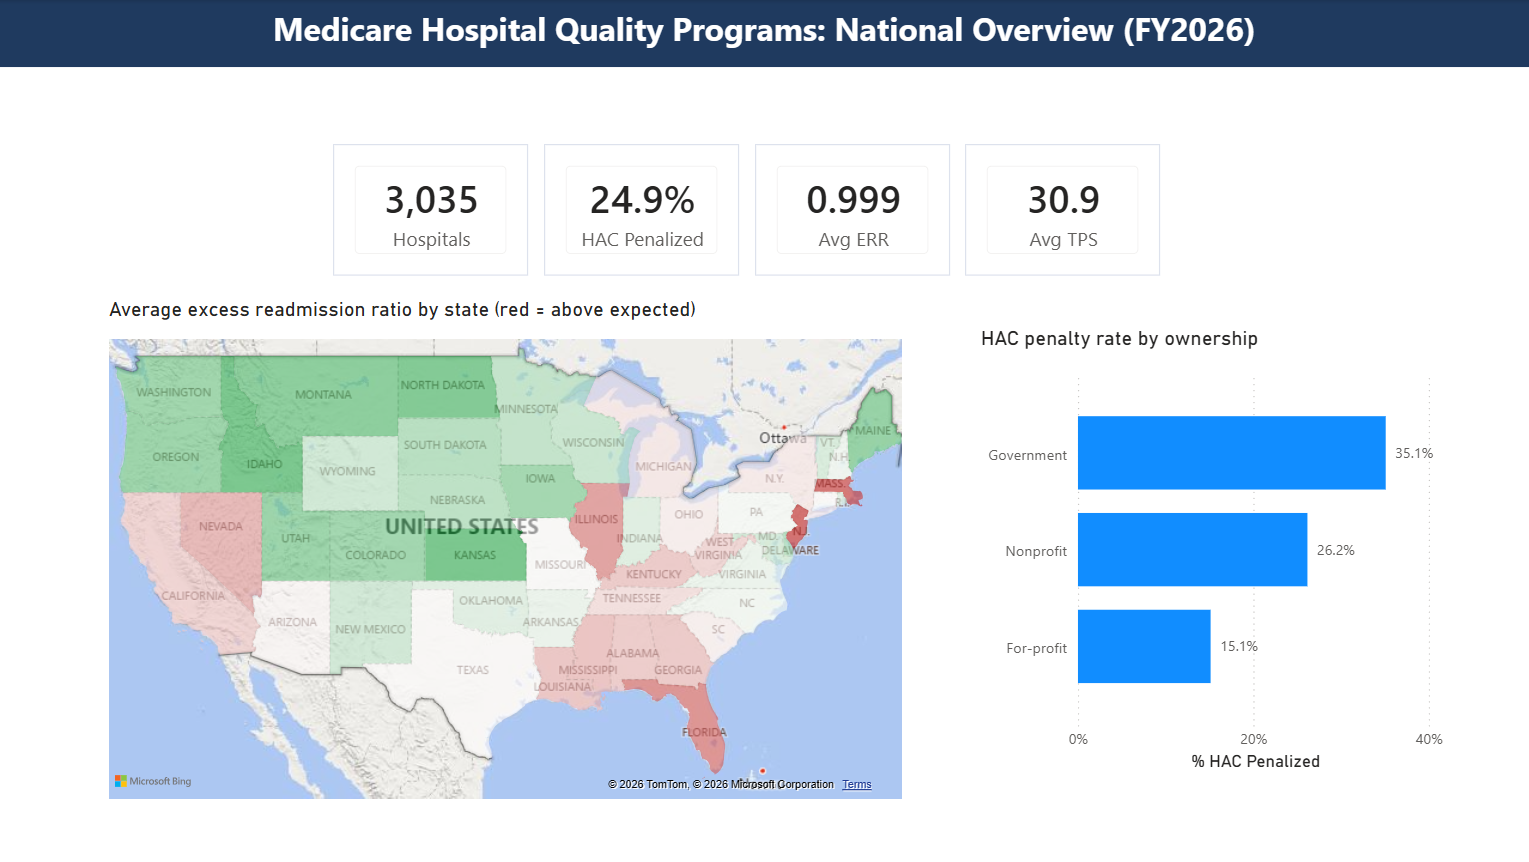

The dashboard page shown, as its layout file describes it:
{"tool":"powerbi","page":{"name":"National overview","canvas":[1280,720],"ordinal":0},"visuals":[{"type":"cardVisual","fields":{"Data":["v_hospital_analysis.Hospitals Display"]},"box":[280,120,163,110],"z":0},{"type":"cardVisual","fields":{"Data":["v_hospital_analysis.% HAC Penalized"]},"box":[456,120,163,110],"z":1000},{"type":"cardVisual","fields":{"Data":["v_hospital_analysis.Avg ERR"]},"box":[632,120,163,110],"z":2000},{"type":"cardVisual","fields":{"Data":["v_hospital_analysis.Avg TPS"]},"box":[808,120,163,110],"z":3000},{"type":"textbox","box":[0,0,1280,56],"z":4000},{"type":"filledMap","title":"Average excess readmission ratio by state (red = above expected)","fields":{"Category":["v_hospital_analysis.state"]},"box":[88,248,672,424],"z":5000},{"type":"clusteredBarChart","title":"HAC penalty rate by ownership","fields":{"Y":["v_hospital_analysis.% HAC Penalized"],"Category":["v_hospital_analysis.ownership_group"]},"box":[816,272,400,376],"z":6000}]}

Visuals, with their boxes in screenshot pixels (x1, y1, x2, y2), scaled from the page's 1280x720 canvas onto the 1529x862 screenshot:
cardVisual - v_hospital_analysis.Hospitals Display: 334, 144, 529, 275
cardVisual - v_hospital_analysis.% HAC Penalized: 545, 144, 739, 275
cardVisual - v_hospital_analysis.Avg ERR: 755, 144, 950, 275
cardVisual - v_hospital_analysis.Avg TPS: 965, 144, 1160, 275
textbox: 0, 0, 1528, 67
"Average excess readmission ratio by state (red = above expected)" filledMap: 105, 297, 908, 805
"HAC penalty rate by ownership" clusteredBarChart: 975, 326, 1453, 776
